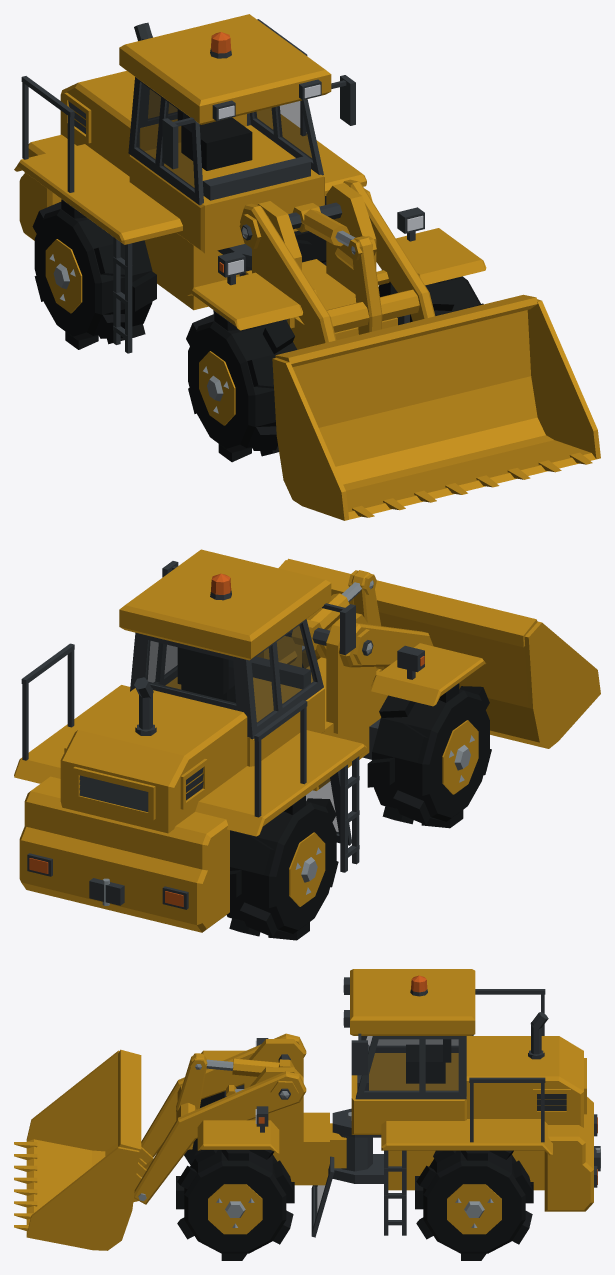
Rendered from wheeled-loader-29dc45-DFEIwYqU.glb.
3 renders of one model, top to bottom at view 1: azimuth 30°, elevation 25°; view 2: azimuth 150°, elevation 25°; view 3: azimuth 270°, elevation 25°, orthographic. The views are drawn at different scales.
Parts seen in each view (by area): view 1: rear-unit, loader-bucket, front-unit, loader-arms, wheel-mesh-rr, wheel-mesh-fr, glazing, wheel-mesh-fl, wheel-mesh-rl; view 2: rear-unit, loader-bucket, wheel-mesh-fr, wheel-mesh-rr, front-unit, glazing, loader-arms; view 3: rear-unit, loader-bucket, wheel-mesh-fl, wheel-mesh-rl, front-unit, loader-arms, glazing.
Boxes of the visible parts, x1,y1,x2,y2 form: rear-unit: (14,14,366,353); loader-bucket: (272,294,600,520); front-unit: (187,183,486,349); loader-arms: (239,179,435,345); wheel-mesh-rr: (32,199,156,349); wheel-mesh-fr: (186,311,296,462); glazing: (136,83,312,188); wheel-mesh-fl: (378,270,483,322); wheel-mesh-rl: (294,196,326,265); rear-unit: (14,549,366,932); loader-bucket: (278,558,600,748); wheel-mesh-fr: (367,683,491,828); wheel-mesh-rr: (227,795,338,940); front-unit: (257,613,485,790); glazing: (146,624,338,833); loader-arms: (279,570,433,671); rear-unit: (311,969,600,1237); loader-bucket: (14,1049,153,1250); wheel-mesh-fl: (176,1149,294,1260); wheel-mesh-rl: (415,1150,533,1260); front-unit: (197,1038,372,1185); loader-arms: (134,1033,306,1204); glazing: (315,1036,458,1219).
Size of the model in its own units: 2.8 by 3.23 by 7.12.
